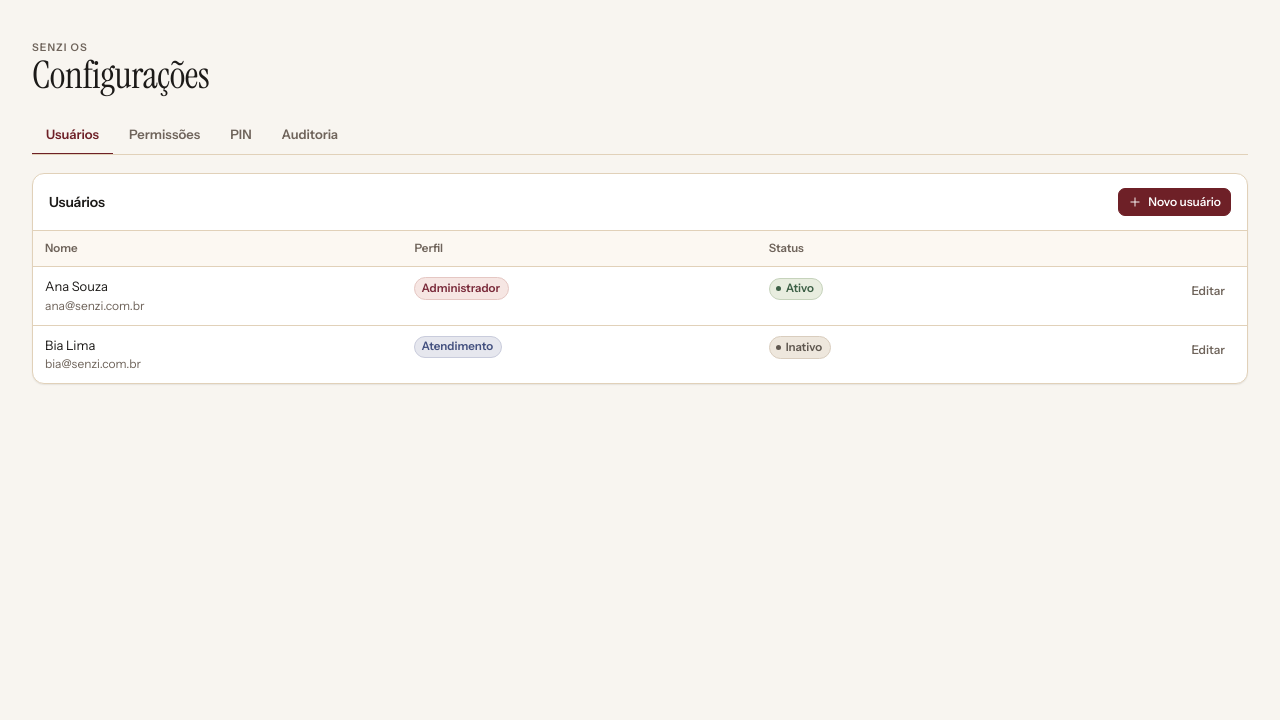
it: Usuários › salvar com sucesso fecha o formulário e recarrega a lista
The width and height of the screenshot is (1280, 720).
Click the button with aria-label "Editar Bia Lima" at (1208, 350), box [1181,336,1235,364]
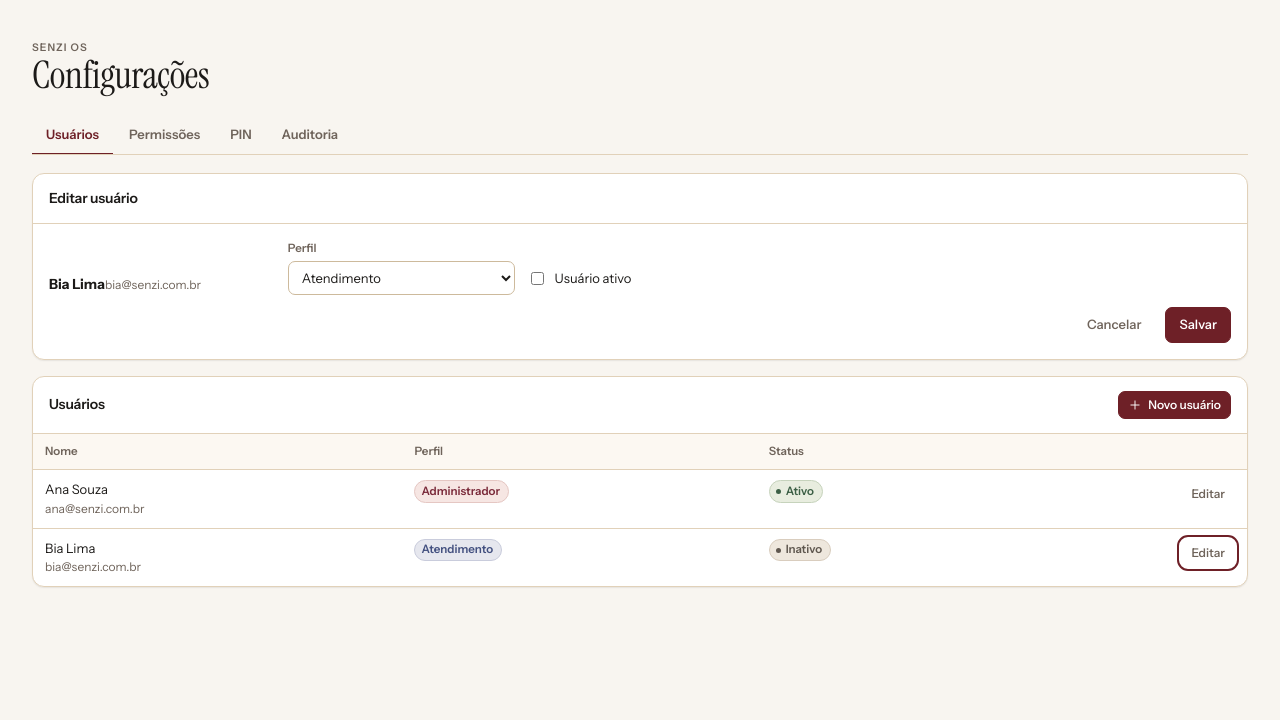
Click the checkbox labelled "Usuário ativo" at (537, 279), box [531,272,544,285]
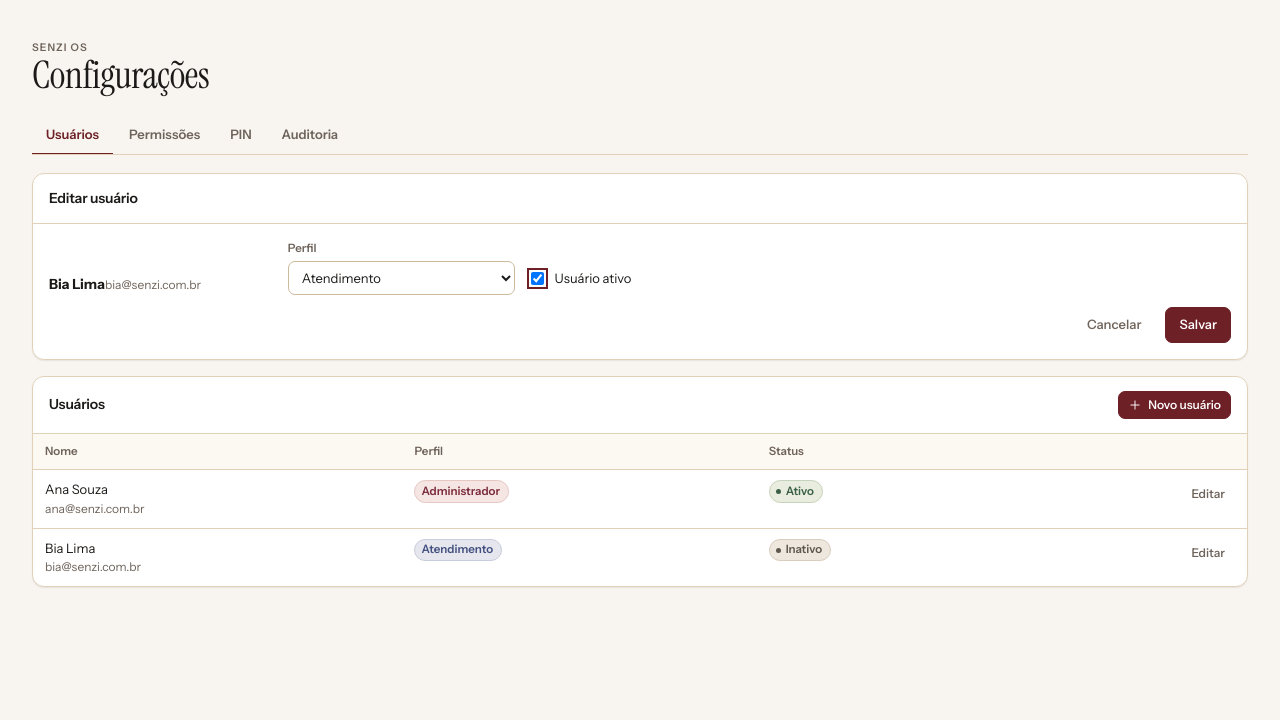
Click the button "Salvar" at (1198, 325), box [1166,307,1231,343]
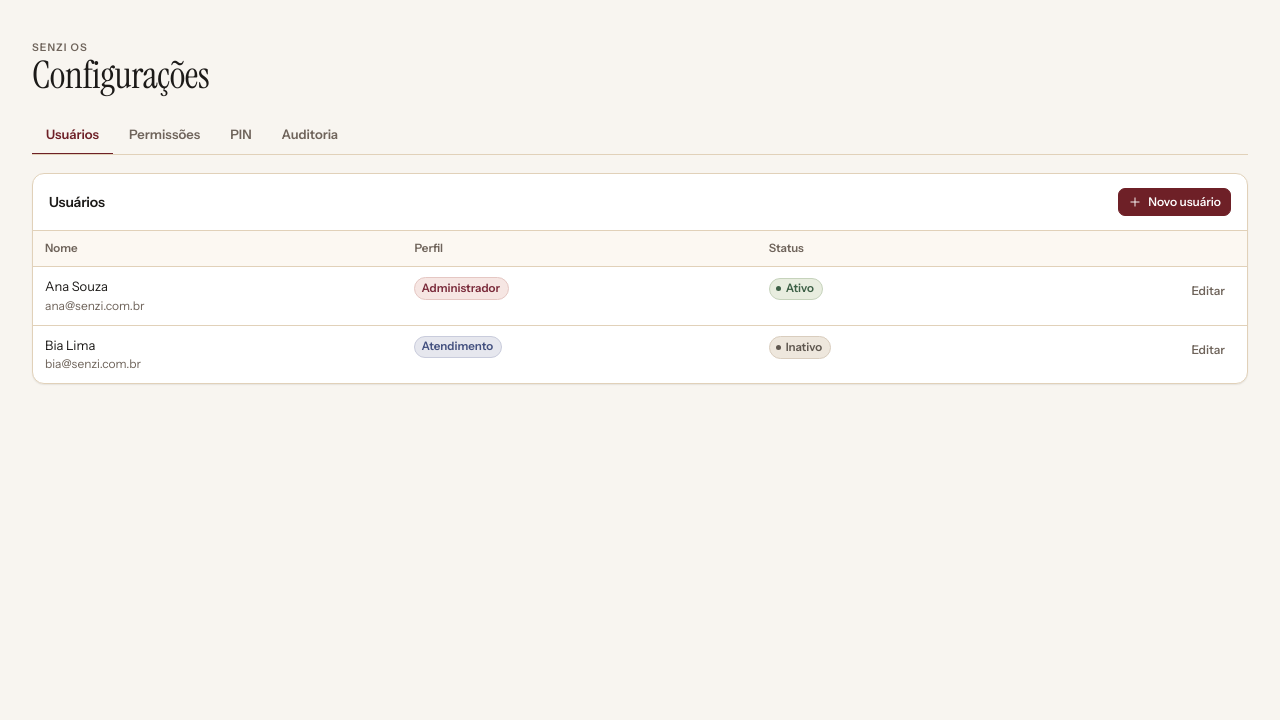
Now the button "Salvar" is gone
